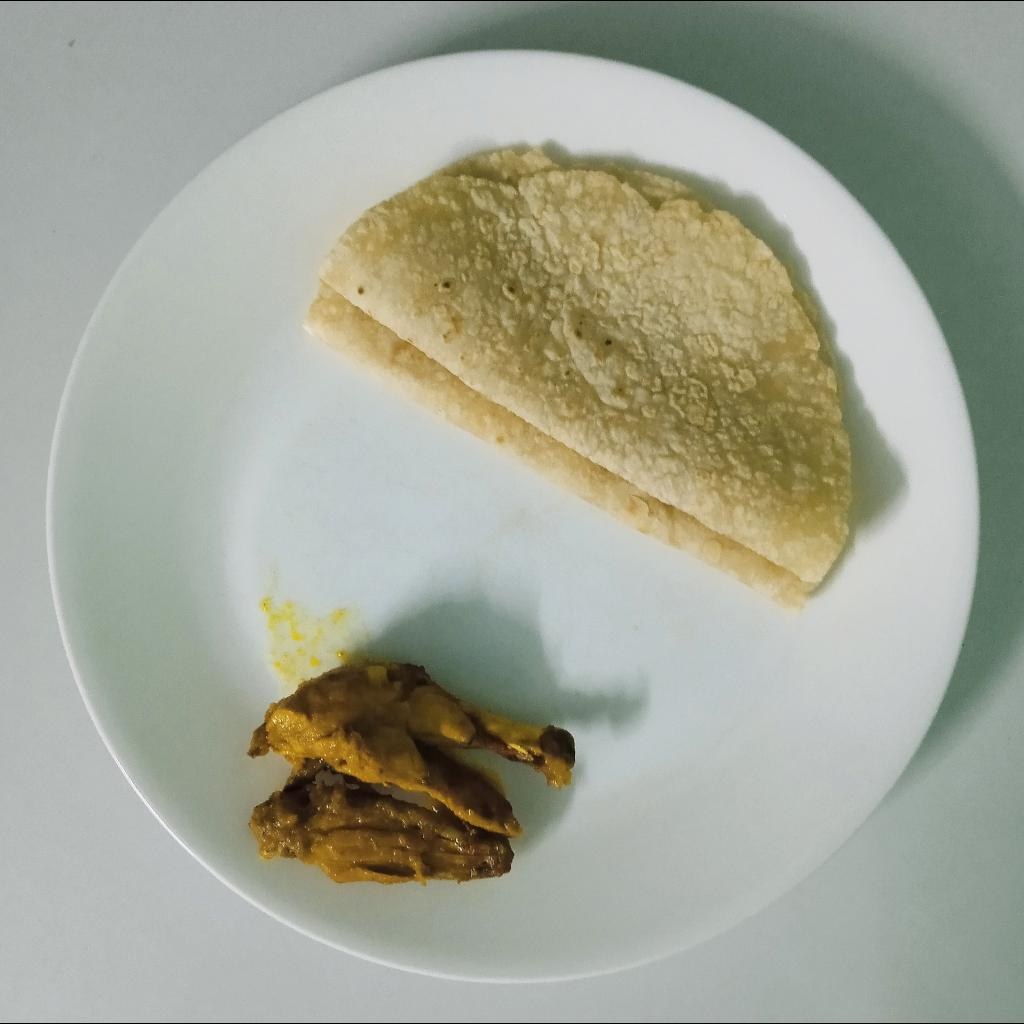chicken: (246, 660, 578, 885)
ruti: (301, 148, 854, 616)
